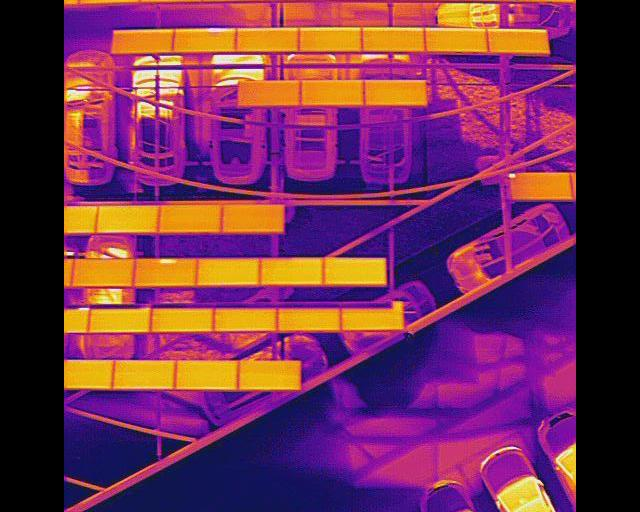Cell: (509, 172, 571, 200)
No-Anomaly: (71, 258, 136, 287), (236, 359, 301, 388), (112, 361, 175, 390), (174, 361, 239, 389), (96, 204, 160, 232), (220, 204, 284, 232), (157, 205, 223, 232), (196, 258, 261, 285), (111, 28, 175, 55), (259, 258, 323, 285), (323, 258, 386, 285), (298, 27, 364, 52), (301, 80, 366, 105), (236, 27, 300, 52), (150, 307, 213, 332), (238, 80, 301, 105), (213, 308, 279, 331), (88, 308, 151, 332), (364, 80, 424, 105), (364, 26, 426, 50), (424, 28, 488, 51), (487, 28, 550, 51), (279, 308, 341, 331), (342, 308, 403, 331)
Unclassified: (131, 258, 198, 286), (172, 28, 237, 52)
